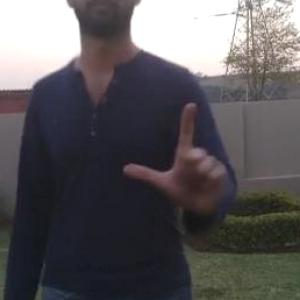land_hand: (123, 88, 240, 214)
